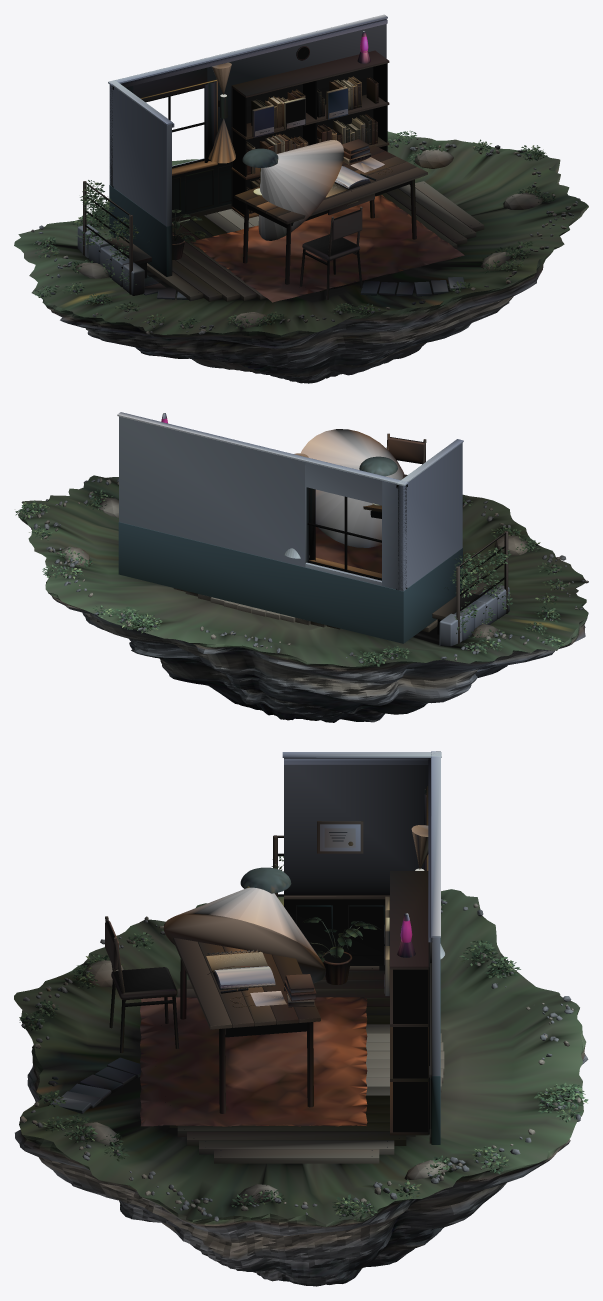
The model's file is flight-writing-234f11e1.glb.
3 renders of one model, top to bottom at view 1: azimuth 30°, elevation 25°; view 2: azimuth 150°, elevation 25°; view 3: azimuth 270°, elevation 25°, orthographic. The views are drawn at different scales.
Visible parts, largest first — view 1: Writing island · flight.001; view 2: Writing island · flight.001; view 3: Writing island · flight.001.
Part boxes in pixels (<box>): Writing island · flight.001: <box>14,14,588,383</box>; Writing island · flight.001: <box>15,412,588,722</box>; Writing island · flight.001: <box>14,751,588,1286</box>.
Bounding box in the file's own units: 11.74 × 6.45 × 8.16.
